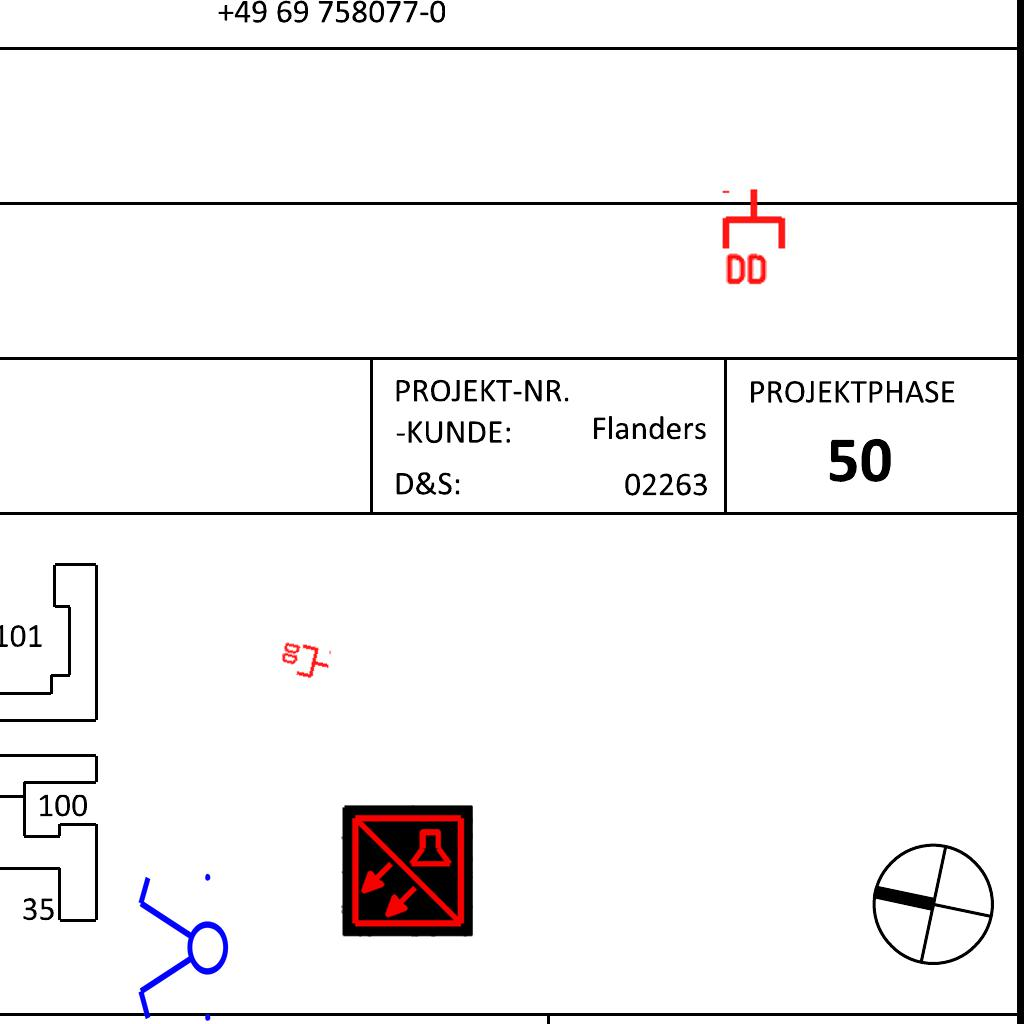Datenanschluss_zweifach: (721, 186, 790, 289), (276, 639, 334, 684)
OKW_Multisensormelder_(Kombination_optischer_Rauch-Kahlenmonoxid_Waerme-Melder): (341, 805, 473, 937)
Serienschalter: (134, 865, 230, 1024)
